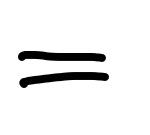eqv: (16, 50, 110, 88)
